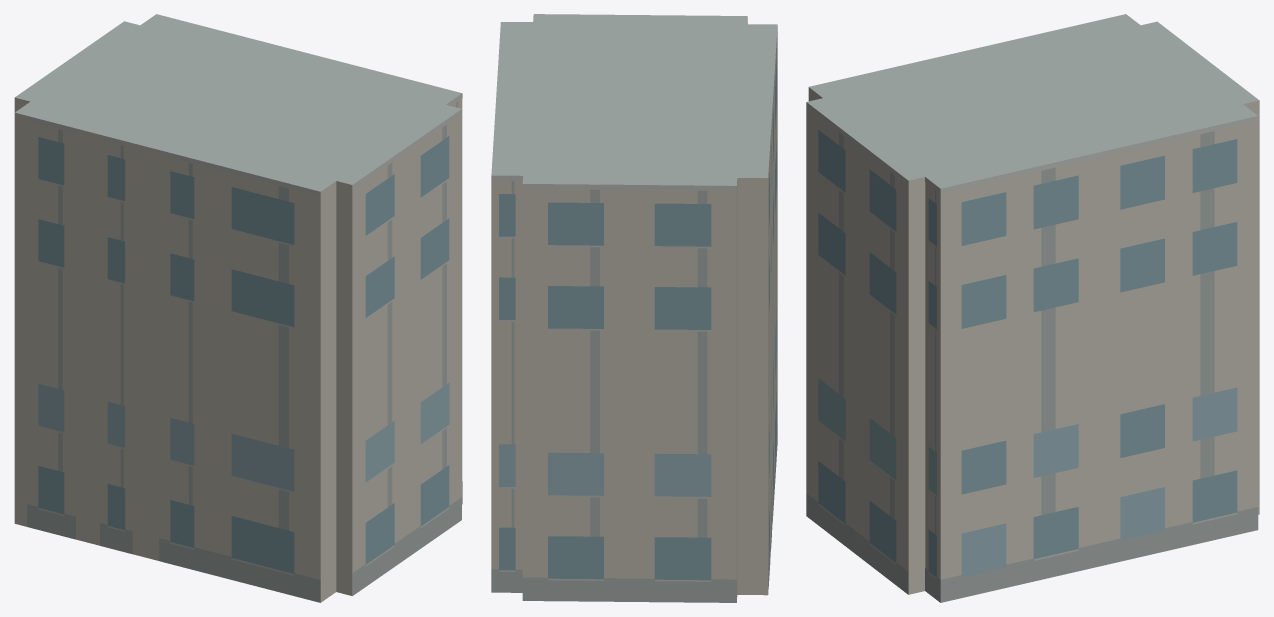
The model's file is survey-upis-32846487.glb.
The picture shows the model from 3 angles, left to right: view 1: azimuth 30°, elevation 25°; view 2: azimuth 150°, elevation 25°; view 3: azimuth 270°, elevation 25°; orthographic projection.
Visible parts, largest first — view 1: survey-upis-32846487.tmp; view 2: survey-upis-32846487.tmp; view 3: survey-upis-32846487.tmp.
Boxes of the visible parts, <box> form: survey-upis-32846487.tmp: <box>14,14,462,602</box>; survey-upis-32846487.tmp: <box>491,14,777,602</box>; survey-upis-32846487.tmp: <box>806,14,1259,602</box>.
Size of the model in its own units: 17.65 by 19.5 by 19.35.
